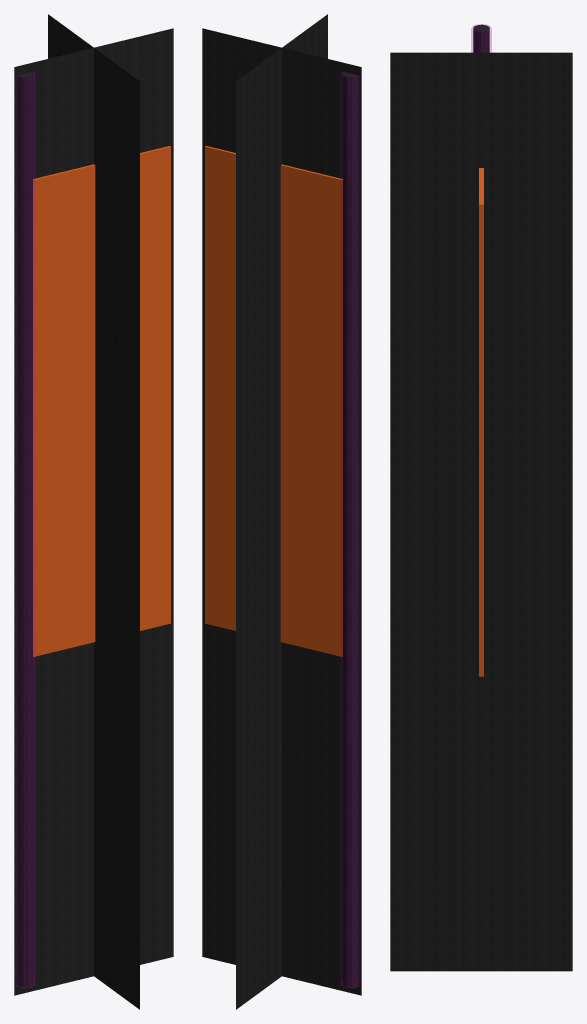
The model's file is featherflag_blank_orange.dae.
The picture shows the model from 3 angles, left to right: view 1: azimuth 30°, elevation 25°; view 2: azimuth 150°, elevation 25°; view 3: azimuth 270°, elevation 25°; orthographic projection.
Parts seen in each view (by area): view 1: featherflag_blank_orange_a50, featherflag_blank_orange_a800, Colmesh_pole-1, featherflag_blank_orange_a200; view 2: featherflag_blank_orange_a50, featherflag_blank_orange_a800, Colmesh_pole-1, featherflag_blank_orange_a200; view 3: featherflag_blank_orange_a50, featherflag_blank_orange_a800.
Boxes of the visible parts, left/top/right/bottom form: featherflag_blank_orange_a50: left=14, top=14, right=173, bottom=1009; featherflag_blank_orange_a800: left=18, top=72, right=170, bottom=987; Colmesh_pole-1: left=16, top=72, right=34, bottom=987; featherflag_blank_orange_a200: left=17, top=72, right=32, bottom=987; featherflag_blank_orange_a50: left=202, top=14, right=361, bottom=1009; featherflag_blank_orange_a800: left=205, top=72, right=357, bottom=987; Colmesh_pole-1: left=341, top=72, right=359, bottom=987; featherflag_blank_orange_a200: left=344, top=73, right=358, bottom=987; featherflag_blank_orange_a50: left=390, top=52, right=572, bottom=971; featherflag_blank_orange_a800: left=473, top=25, right=489, bottom=676.
Bounding box in the file's own units: 0.77 × 0.77 × 4.28.
Materials: 3 (2 with a texture image).
